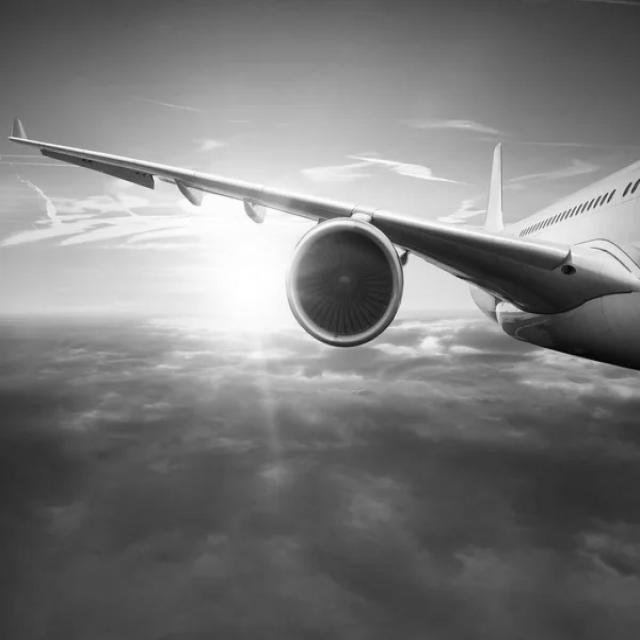Aircraft: (9, 94, 640, 390)
